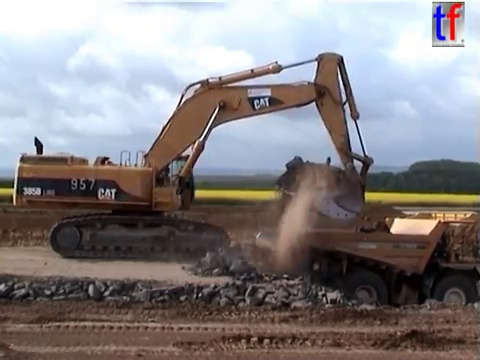excavator: (9, 49, 378, 264)
truck: (252, 206, 480, 327)
